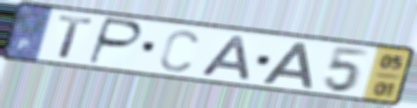5: (322, 44, 372, 94)
A: (260, 40, 315, 90), (196, 34, 253, 82)
C: (157, 28, 201, 74)
P: (85, 16, 146, 67)
T: (56, 13, 96, 61)
